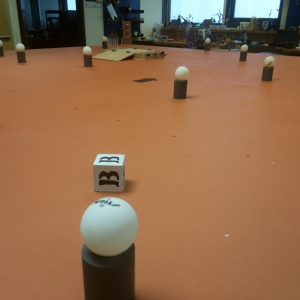obstacle: (80, 197, 137, 300), (173, 66, 190, 100), (261, 55, 275, 83), (81, 45, 93, 68), (15, 43, 27, 63), (240, 45, 248, 62), (204, 37, 212, 53), (101, 35, 108, 49), (1, 40, 6, 58)
side: (135, 50, 165, 61)
slope: (93, 50, 134, 62)
